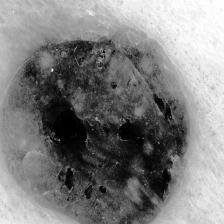Benign Marking or Mole: (0, 38, 190, 224)
